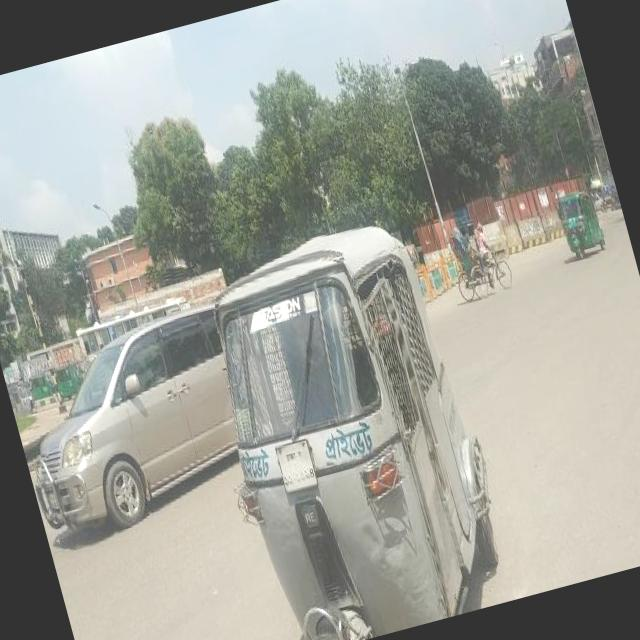motorcycle: (199, 198, 521, 640), (441, 212, 517, 308), (546, 180, 610, 265), (6, 376, 38, 419), (23, 370, 52, 401)
truck: (15, 364, 254, 550), (46, 358, 84, 398)
